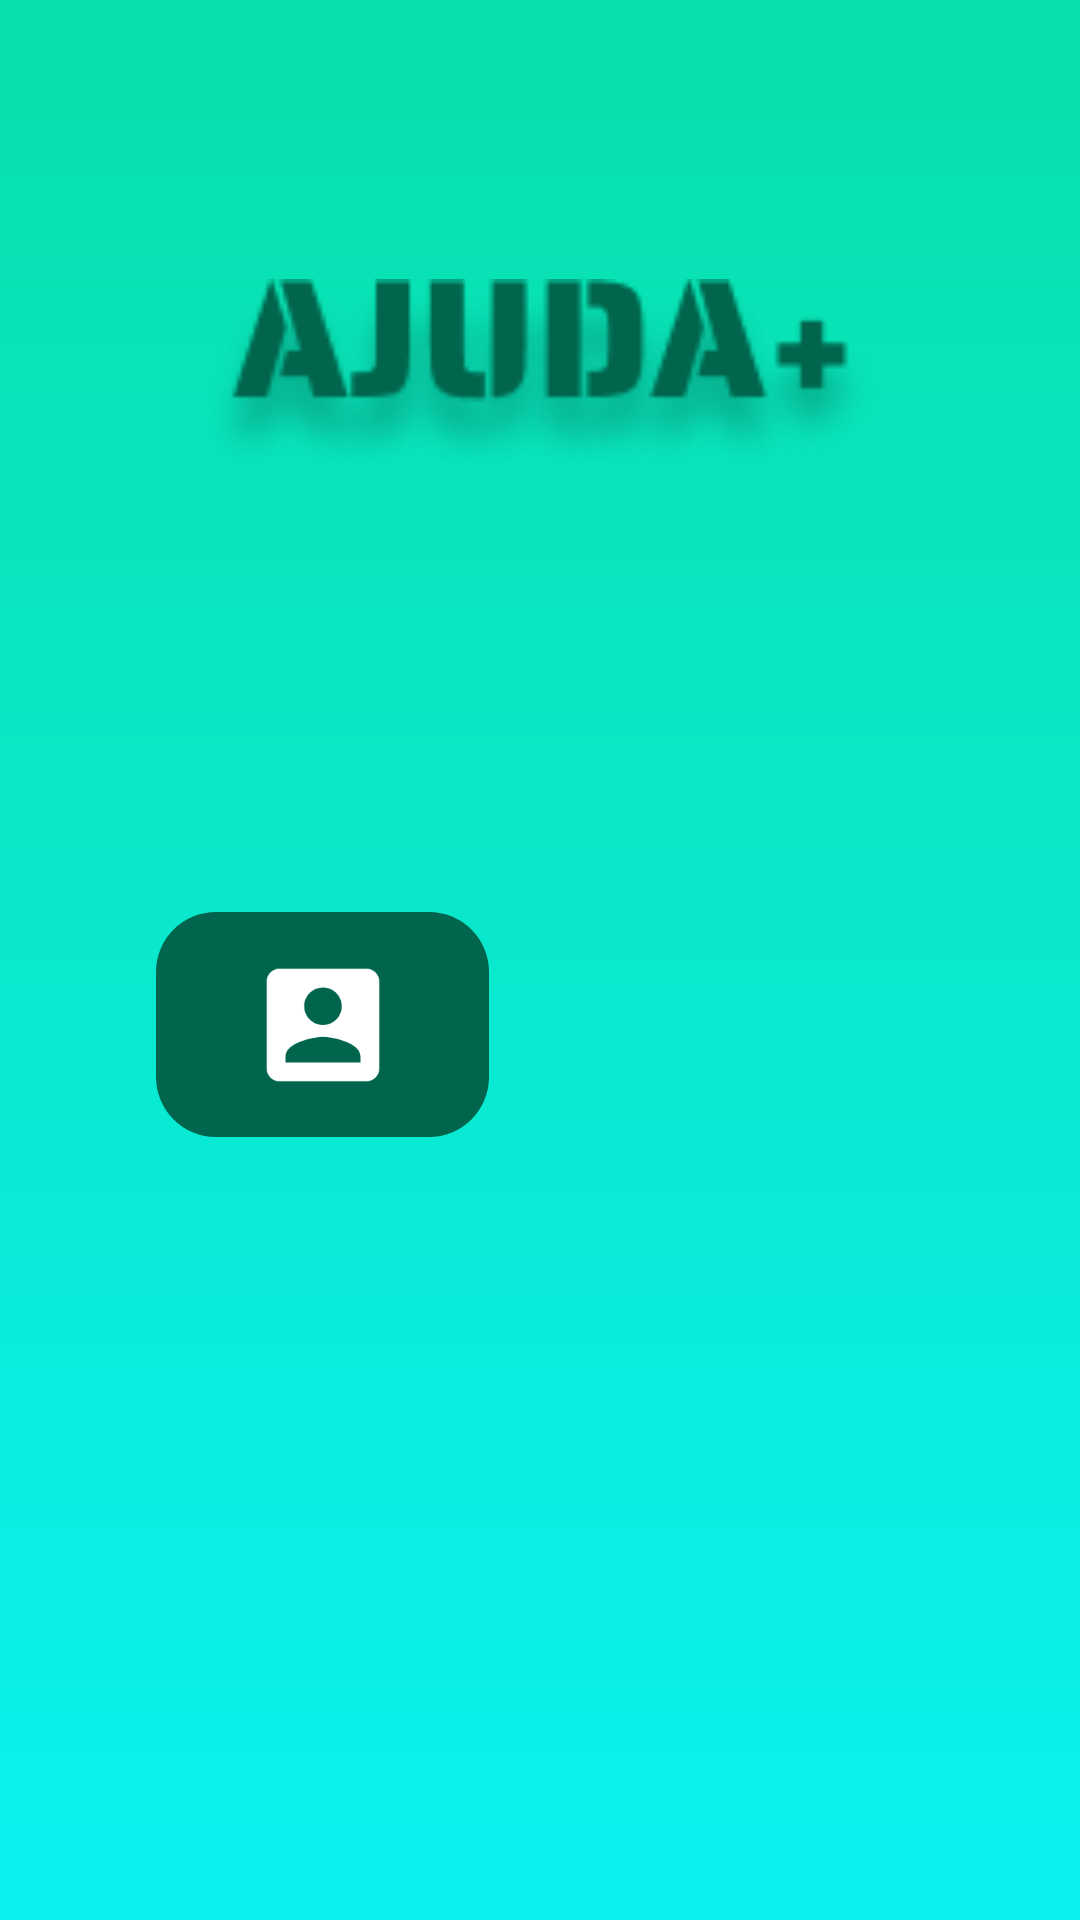

Point at icon controls on the screen. Image size 1080x1920, points as (x=x, y=y).
profile: (x=322, y=1024)
